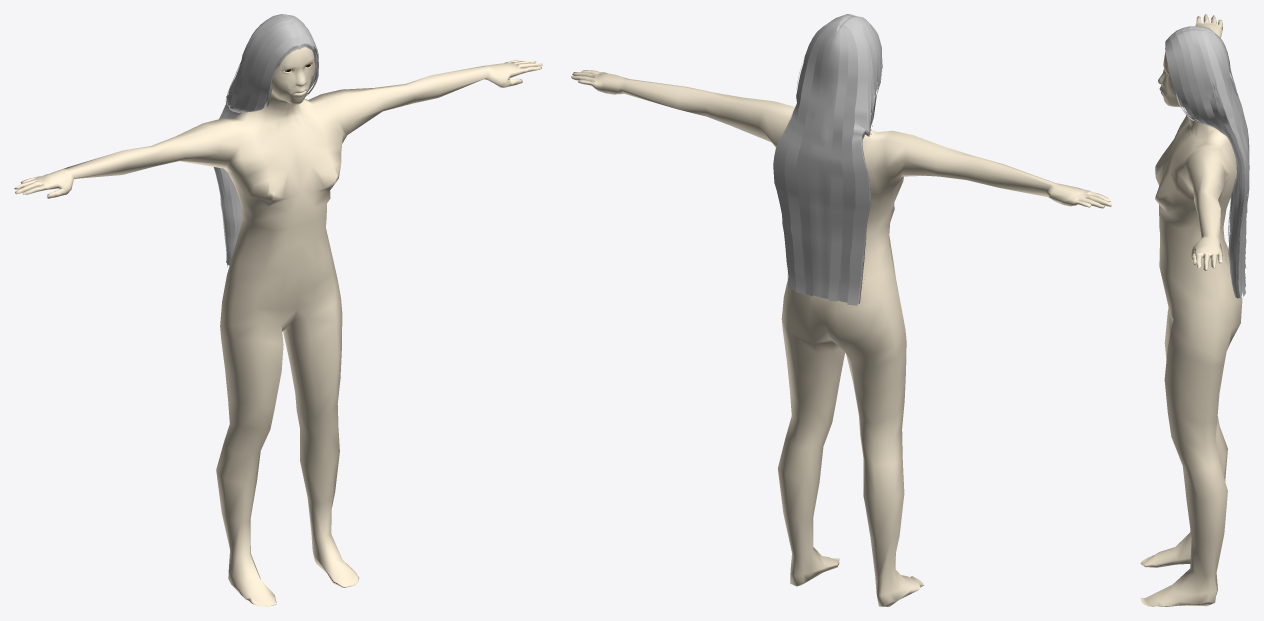
File: India_SemOsso.fbx
The picture shows the model from 3 angles, left to right: view 1: azimuth 30°, elevation 25°; view 2: azimuth 150°, elevation 25°; view 3: azimuth 270°, elevation 25°; orthographic projection. The views are drawn at different scales.
Visible parts, largest first — view 1: female1605Mesh, long01Mesh; view 2: female1605Mesh, long01Mesh; view 3: female1605Mesh, long01Mesh.
Part boxes in pixels (x1,y1,x2,y2): female1605Mesh: (14,47,542,606); long01Mesh: (213,14,318,266); female1605Mesh: (571,70,1111,606); long01Mesh: (773,14,882,305); female1605Mesh: (1140,14,1242,606); long01Mesh: (1165,26,1249,298).
Size of the model in its own units: 59.34 by 60.33 by 10.75.
